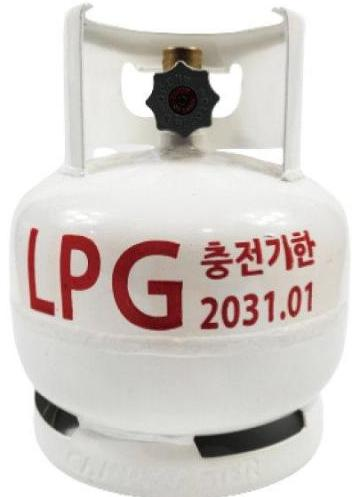cylinder: (0, 1, 356, 497)
